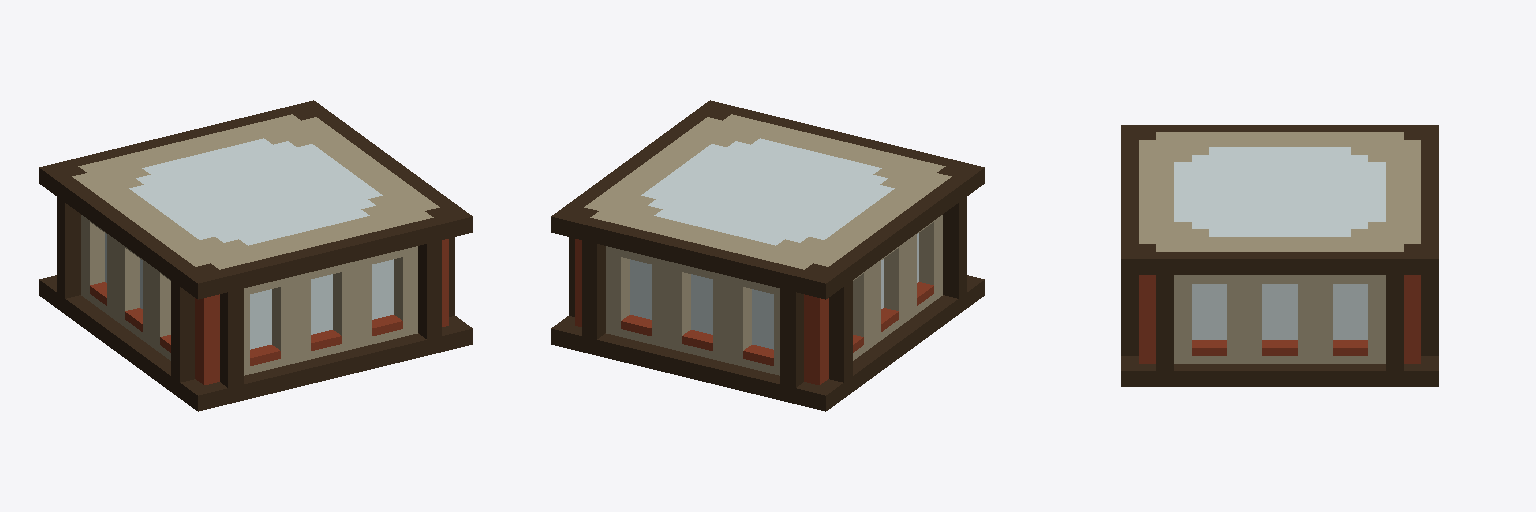
File: Tri-Window_Layer Colored.obj
3 renders of one model, left to right at view 1: azimuth 30°, elevation 25°; view 2: azimuth 150°, elevation 25°; view 3: azimuth 270°, elevation 25°, orthographic.
Visible parts, largest first — view 1: Tri-Window_Layer Colored; view 2: Tri-Window_Layer Colored; view 3: Tri-Window_Layer Colored.
Boxes of the visible parts, <box> form: Tri-Window_Layer Colored: <box>39,100,472,411</box>; Tri-Window_Layer Colored: <box>551,100,984,411</box>; Tri-Window_Layer Colored: <box>1121,125,1438,386</box>.
Bounding box in the file's own units: 1.12 × 0.5 × 1.12.